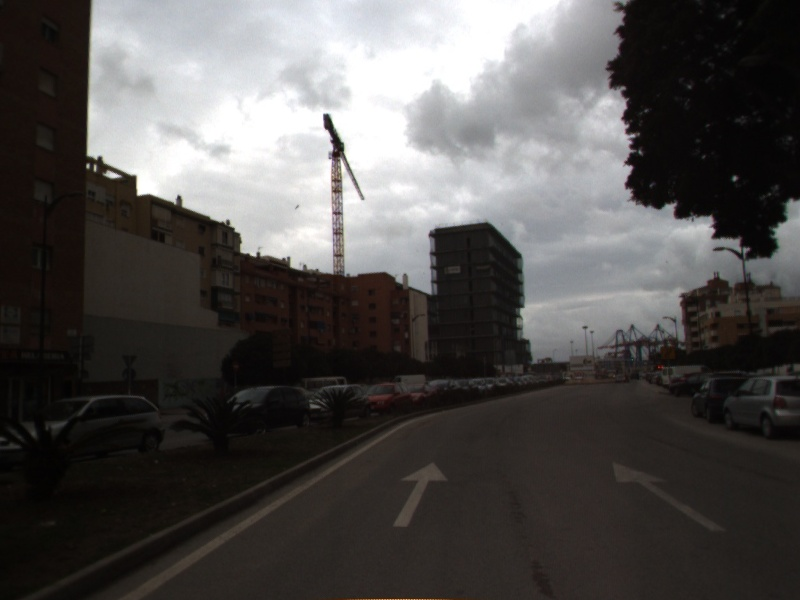STRAIGHT: (610, 459, 730, 534), (390, 458, 452, 530)
